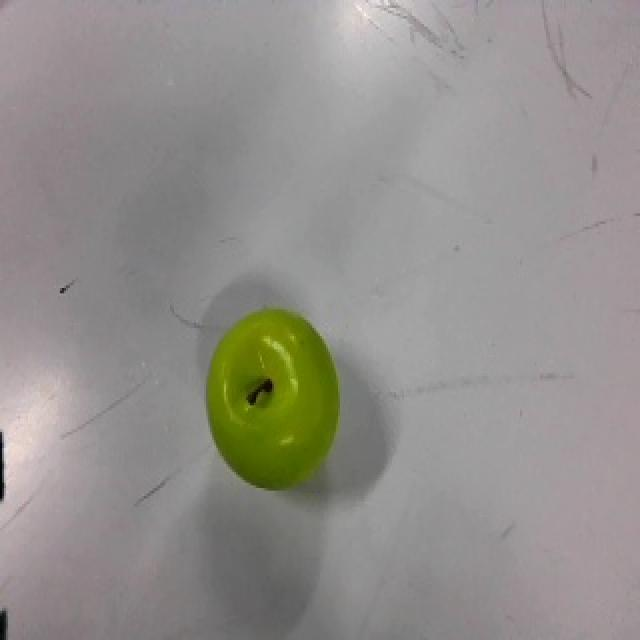apple: (204, 305, 341, 492)
